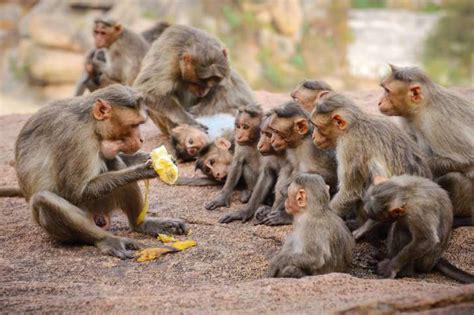monkey: (1, 83, 187, 259), (310, 91, 432, 218), (379, 66, 474, 216), (135, 23, 254, 132), (353, 177, 474, 283), (266, 175, 353, 278), (264, 101, 336, 222), (219, 111, 288, 223), (204, 105, 263, 211), (92, 15, 149, 84), (196, 131, 236, 185), (169, 121, 212, 161)
